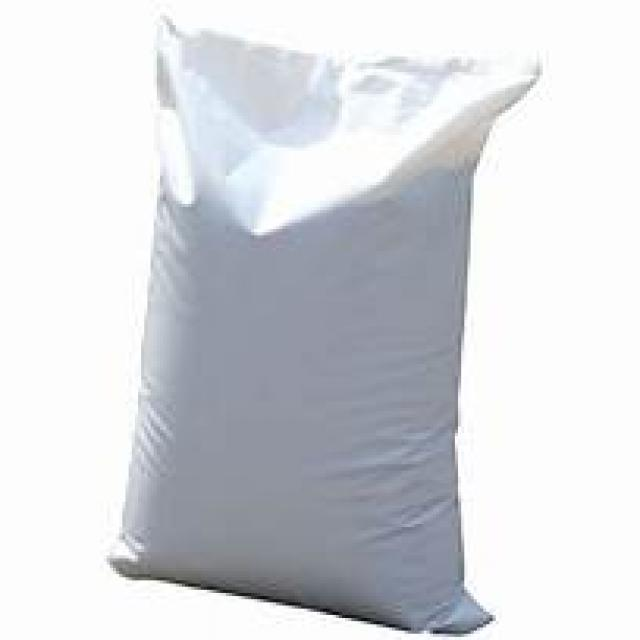gunny_bag: (111, 6, 549, 635)
